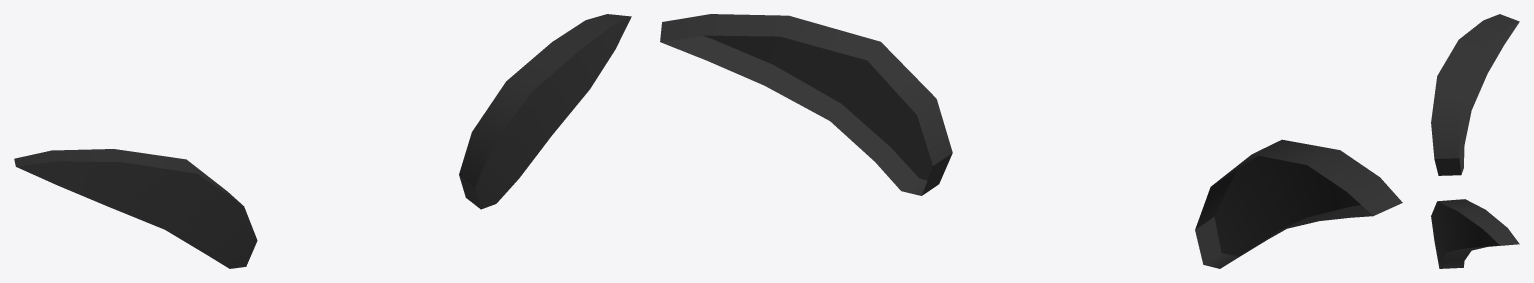
Rendered from Eyebrow_5.fbx.
3 views of the same model, side by side, from view 1: azimuth 30°, elevation 25°; view 2: azimuth 150°, elevation 25°; view 3: azimuth 270°, elevation 25° (orthographic). The views are drawn at different scales.
Parts seen in each view (by area): view 1: Eyebrow_5; view 2: Eyebrow_5; view 3: Eyebrow_5.
Part boxes in pixels (x1=…): Eyebrow_5: x1=14, y1=14, x2=631, y2=268; Eyebrow_5: x1=660, y1=14, x2=1402, y2=268; Eyebrow_5: x1=1431, y1=14, x2=1519, y2=268.
Size of the model in its own units: 27.94 by 5.35 by 4.54.
